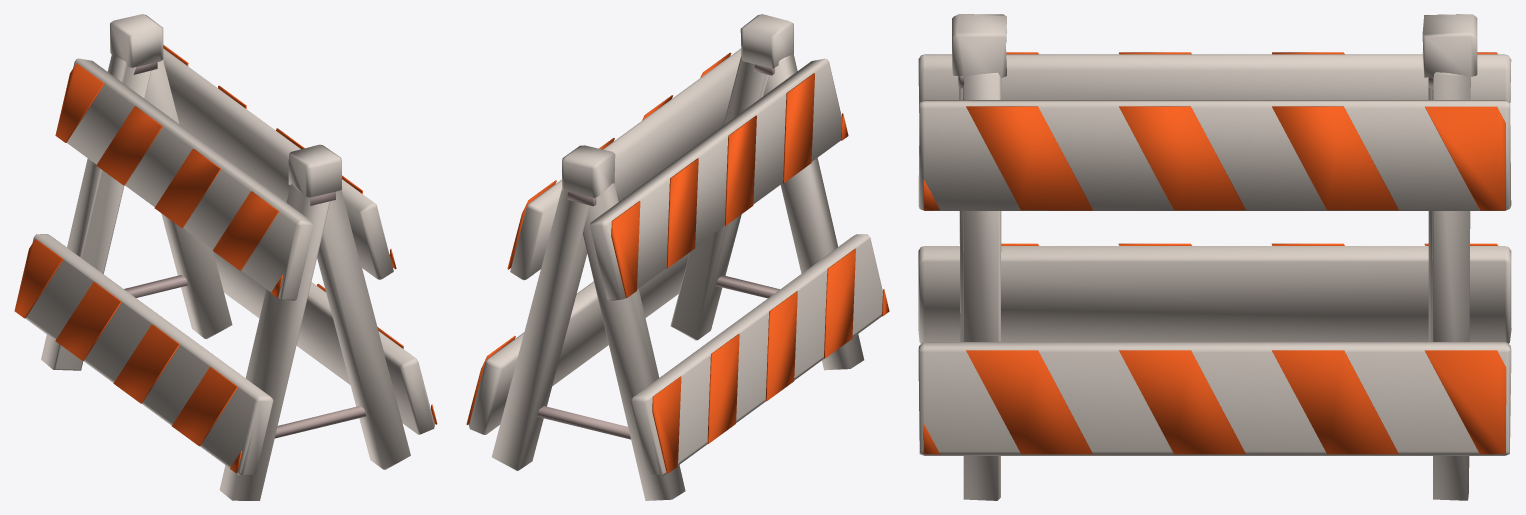
Rendered from prop.barricade.lod1.glb.
The picture shows the model from 3 angles, left to right: view 1: azimuth 30°, elevation 25°; view 2: azimuth 150°, elevation 25°; view 3: azimuth 270°, elevation 25°; orthographic projection. The views are drawn at different scales.
Size of the model in its own units: 1.16 by 1.8 by 2.25.
